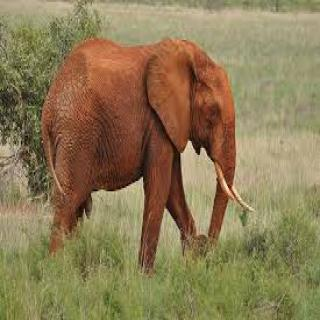Elephant: (40, 31, 258, 268)
